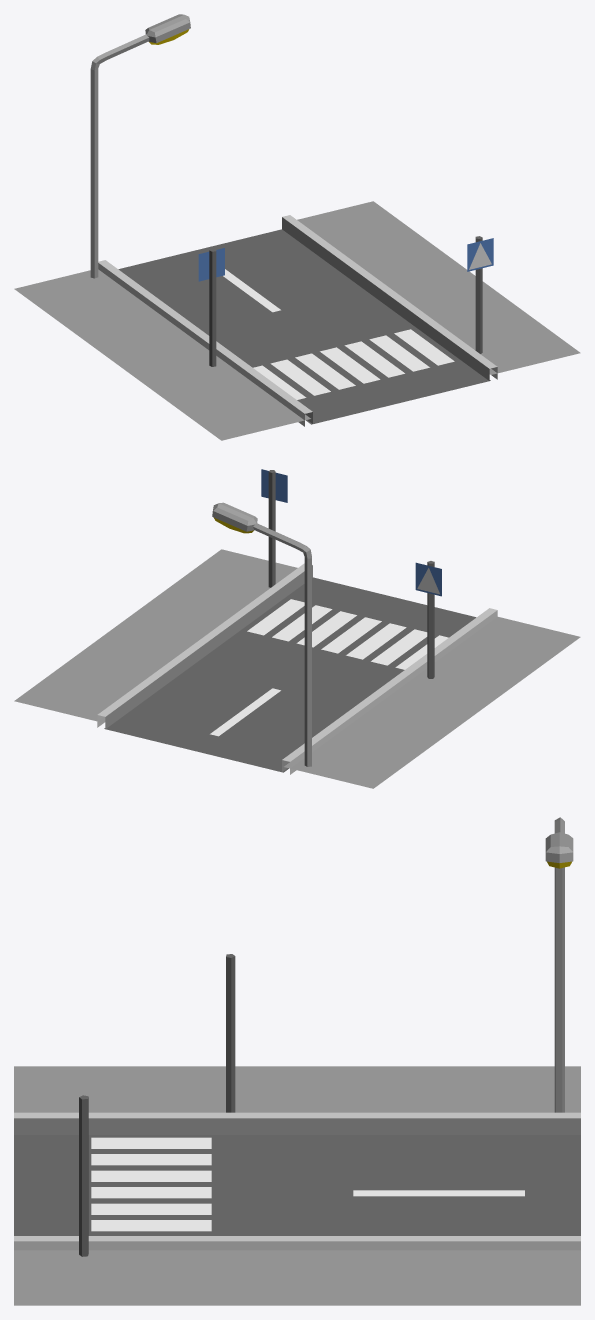
Rendered from Road_Tile_3.fbx.
The picture shows the model from 3 angles, top to bottom: view 1: azimuth 30°, elevation 25°; view 2: azimuth 150°, elevation 25°; view 3: azimuth 270°, elevation 25°; orthographic projection. The views are drawn at different scales.
Parts seen in each view (by area): view 1: Road_3, Light_3, Sign_3_1, Sign_3_2; view 2: Road_3, Light_3, Sign_3_1, Sign_3_2; view 3: Road_3, Light_3, Sign_3_2, Sign_3_1.
Part boxes in pixels (bbox=[...]): Road_3: bbox=[14, 201, 580, 440]; Light_3: bbox=[90, 14, 190, 278]; Sign_3_1: bbox=[198, 248, 224, 366]; Sign_3_2: bbox=[467, 236, 493, 353]; Road_3: bbox=[14, 549, 580, 788]; Light_3: bbox=[212, 502, 311, 766]; Sign_3_1: bbox=[415, 561, 441, 678]; Sign_3_2: bbox=[261, 469, 287, 587]; Road_3: bbox=[14, 1066, 580, 1305]; Light_3: bbox=[545, 817, 573, 1112]; Sign_3_2: bbox=[79, 1095, 88, 1256]; Sign_3_1: bbox=[226, 954, 235, 1112].
Bounding box in the file's own units: 4 × 2.62 × 4.
